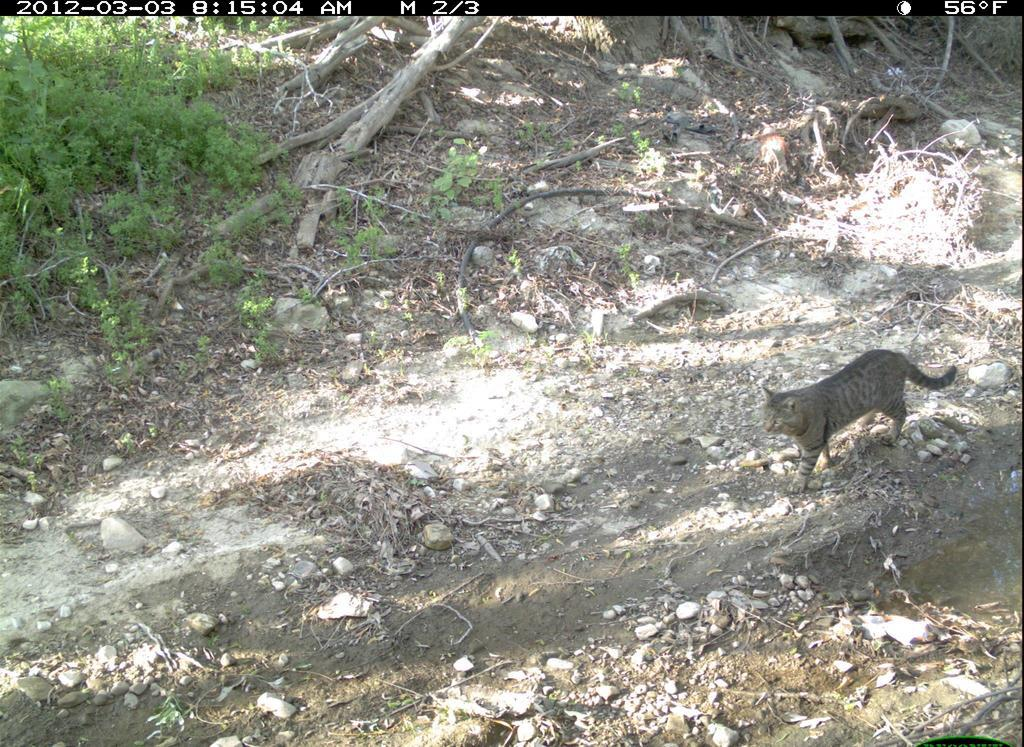cat: (742, 342, 978, 516)
